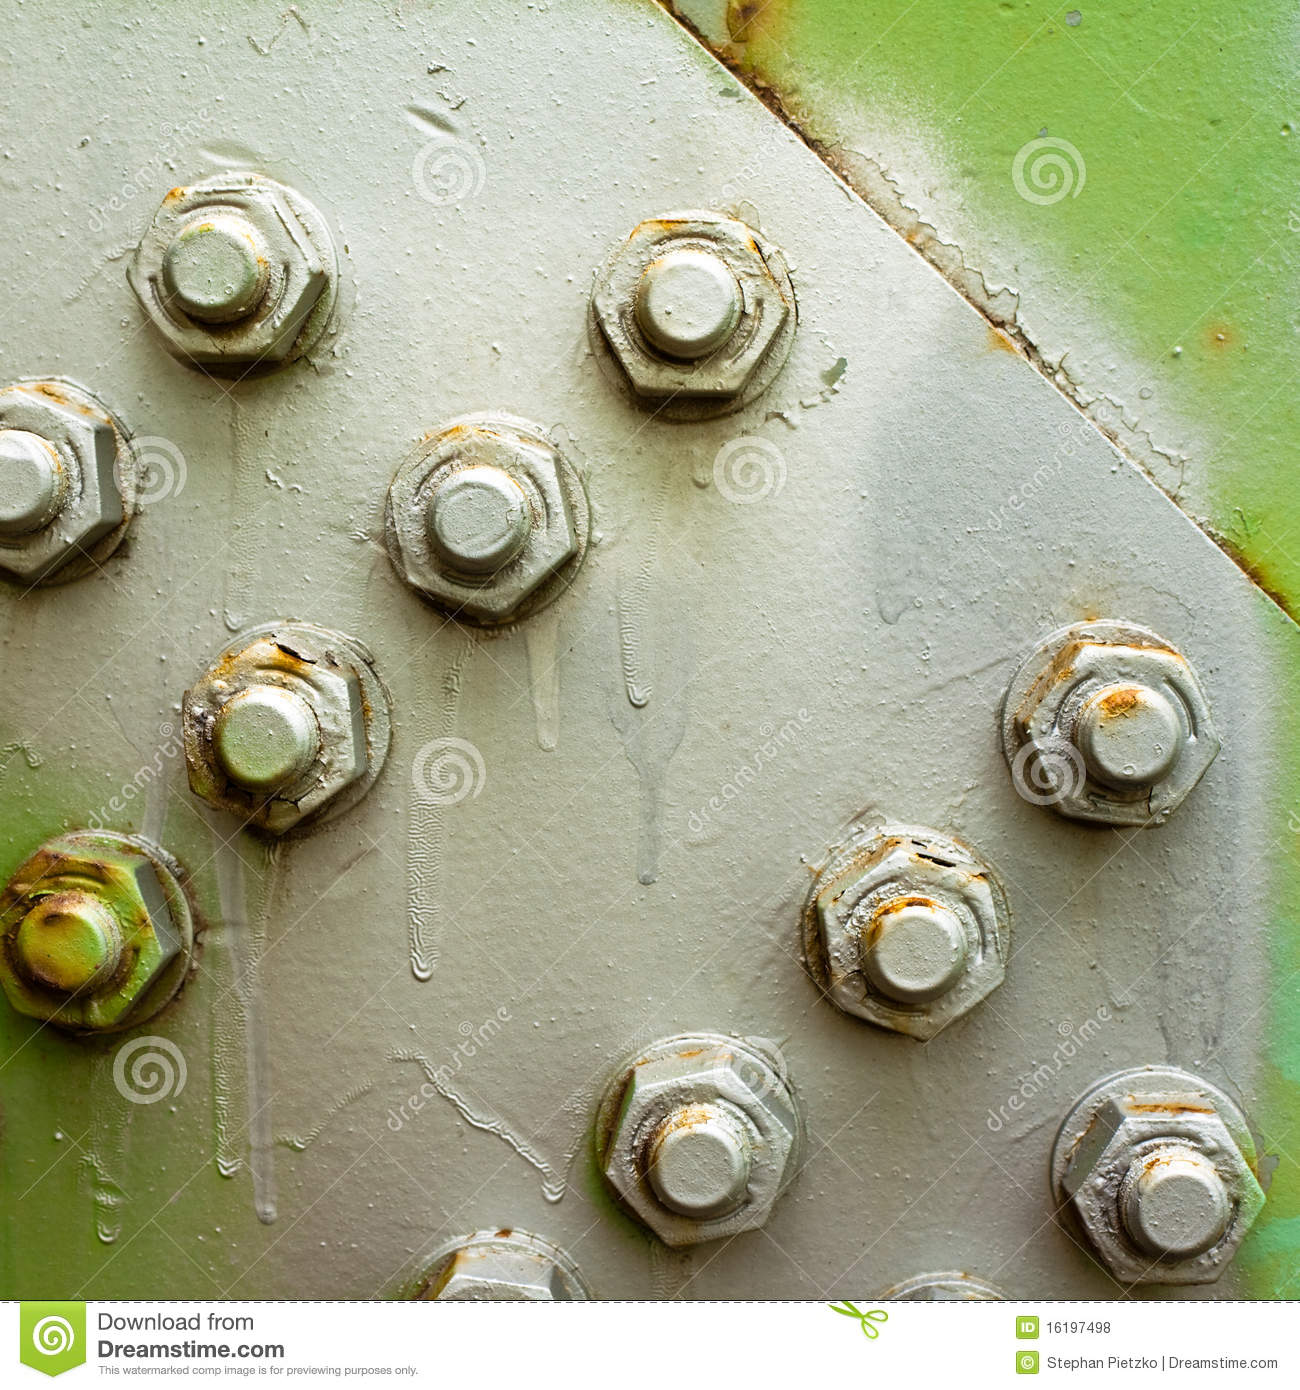bolt_b: (1020, 627, 1224, 839), (382, 417, 584, 627), (175, 638, 375, 849), (811, 837, 1010, 1049), (1056, 1094, 1268, 1285), (123, 177, 324, 377), (601, 1053, 802, 1253), (593, 214, 788, 414), (7, 839, 187, 1042)
